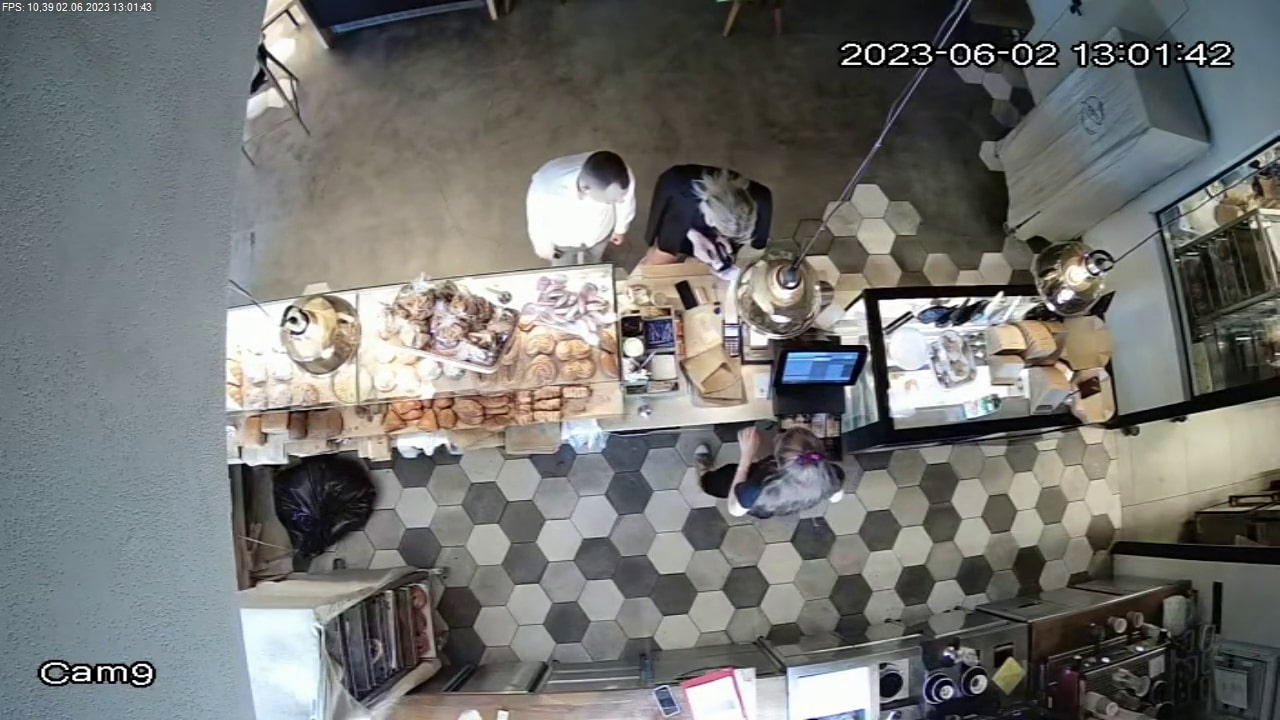barcounter: (234, 281, 1126, 462)
openedcash: (779, 345, 860, 464)
pack: (682, 302, 724, 352), (688, 352, 741, 390)
person: (695, 423, 857, 524), (515, 141, 637, 267), (654, 162, 778, 270)
